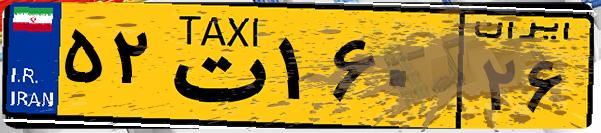0: (385, 28, 445, 110)
1: (270, 28, 330, 110)
2: (475, 38, 525, 113), (110, 28, 158, 98)
5: (57, 26, 110, 100)
6: (330, 28, 385, 110), (525, 38, 570, 115)
ت: (158, 12, 270, 120)
